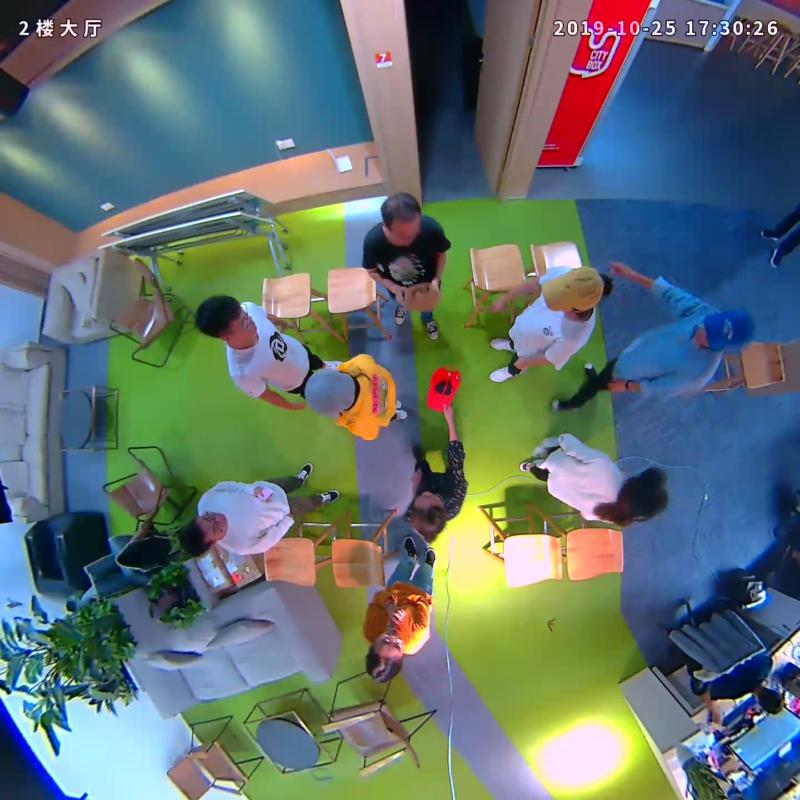head: (194, 293, 259, 343), (540, 266, 604, 316), (695, 307, 755, 353), (303, 367, 356, 418), (619, 467, 668, 521), (379, 192, 422, 246), (180, 511, 227, 558), (364, 632, 406, 683), (408, 488, 443, 538)
